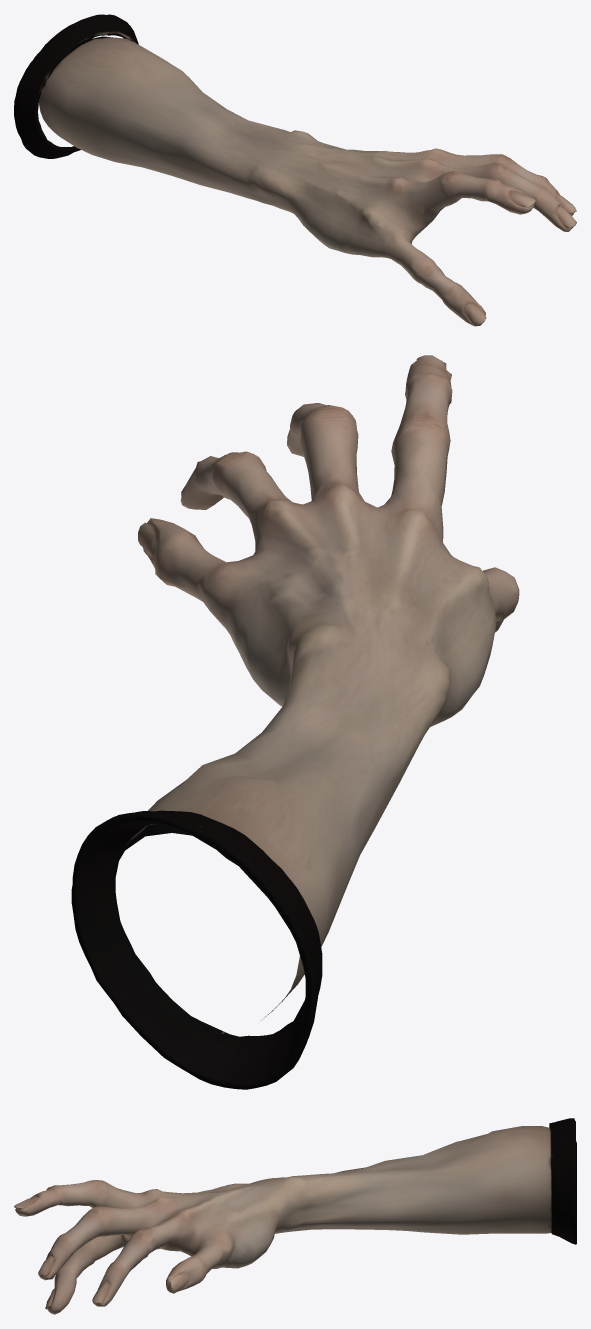
3 views of the same model, one above another, from view 1: azimuth 30°, elevation 25°; view 2: azimuth 150°, elevation 25°; view 3: azimuth 270°, elevation 25° (orthographic). The views are drawn at different scales.
Parts seen in each view (by area): view 1: tripo_node_483beaeb-f330-4b47-acab-11aea8799c6c; view 2: tripo_node_483beaeb-f330-4b47-acab-11aea8799c6c; view 3: tripo_node_483beaeb-f330-4b47-acab-11aea8799c6c.
Boxes of the visible parts, bbox=[...] form: tripo_node_483beaeb-f330-4b47-acab-11aea8799c6c: bbox=[14, 14, 576, 326]; tripo_node_483beaeb-f330-4b47-acab-11aea8799c6c: bbox=[71, 355, 519, 1089]; tripo_node_483beaeb-f330-4b47-acab-11aea8799c6c: bbox=[14, 1118, 576, 1314].
Bounding box in the file's own units: 0.6191 × 0.2637 × 0.998.
Materials: 1 (1 with a texture image).
